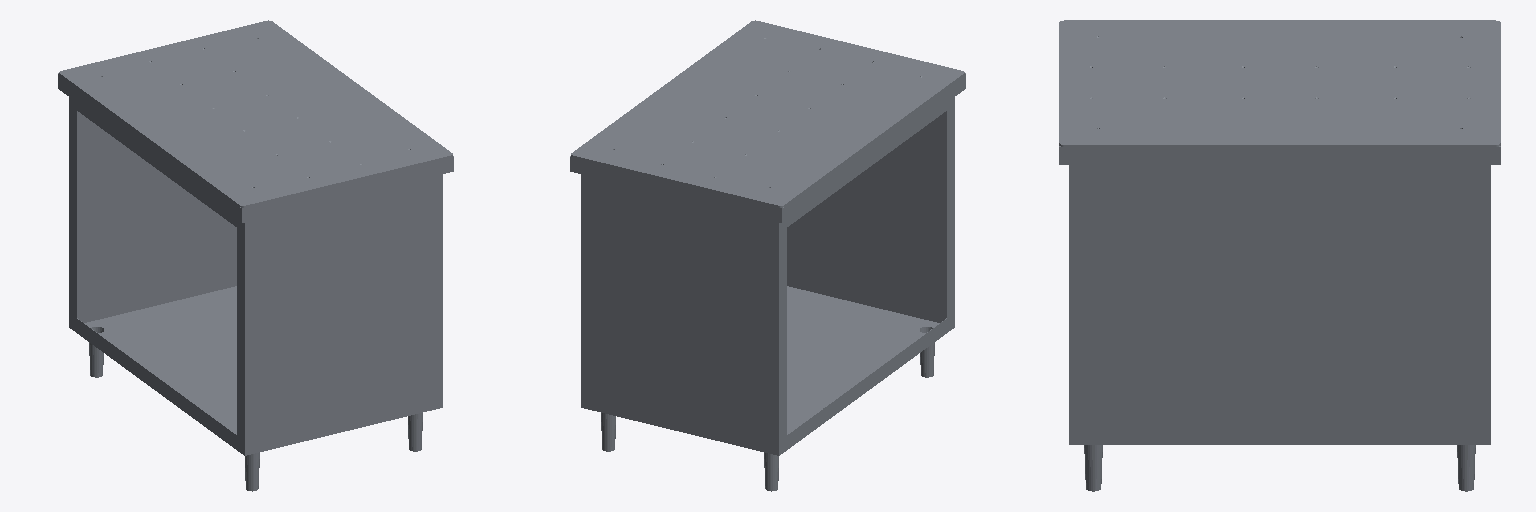
robot.urdf — robot_cabinetnplate:
<?xml version="1.0"?>
<!--
  robot_cabinetnplate.urdf
  바탕화면 Robot_cabinetnplate.step → 변환. 캐비닛(몸체) + 플레이트(상판) 솔리드 2개가 합쳐진 단일 바디.
  - 원본 STEP 단위 mm → 원본 BREP 스케일 변환이 일부 실린더 곡면에서 실패해(Convert_CylinderToBSplineSurface)
    mm 단위로 먼저 테셀레이션 후 정점만 m로 스케일하는 방식으로 우회 변환.
  - 원본 메쉬 좌표계는 로봇 장착면(윗면)이 원점(x:-0.3~0.3, y:-0.45~0.45, z:-0.8~0.005)이었으나,
    a0509_stand.urdf(바닥이 원점)와 배치 관례를 통일하기 위해 visual/collision origin에
    +0.8 오프셋을 줘서 링크 원점 = 바닥(z=0), 상판 = z≈0.805가 되도록 재정렬함(메쉬 파일 자체는 안 건드림).
  - 치수 0.60(x) x 0.90(y) x 0.805(z) m, x/y는 중심 정렬, z는 바닥(0~0.805). (삼각형 27,212면)
  - 로봇은 상판(z≈0.805)에 장착.
  - 시각(visual): 원본 메쉬. 충돌(collision): 박스로 단순화(치수=메쉬 바운딩박스)
  - 정적 구조물이므로 스폰 시 AssetOptions.fix_base_link=True 권장
-->
<robot name="robot_cabinetnplate">

  <material name="cabinet_gray"> <color rgba="0.55 0.57 0.60 1.0"/> </material>

  <link name="base_link">
    <inertial>
      <origin xyz="0 0 0.4025"/>
      <mass value="40.0"/>
      <!-- 박스 관성 (m=40, 0.60x0.90x0.805) -->
      <inertia ixx="4.86" ixy="0" ixz="0" iyy="3.36" iyz="0" izz="3.90"/>
    </inertial>

    <visual>
      <origin xyz="0 0 0.8"/>
      <geometry><mesh filename="meshes/robot_cabinetnplate.stl" scale="1 1 1"/></geometry>
      <material name="cabinet_gray"/>
    </visual>

    <collision>
      <origin xyz="0 0 0.4025"/>
      <geometry><box size="0.60 0.90 0.805"/></geometry>
    </collision>
  </link>
</robot>

--- Facts derived from the render (not from the file) ---
The picture shows the robot from 3 angles, left to right: view 1: azimuth 30°, elevation 25°; view 2: azimuth 150°, elevation 25°; view 3: azimuth 270°, elevation 25°; orthographic projection.
Model robot_cabinetnplate with 1 links and 0 joints (none), rooted at base_link, posed all joints at 0.
Visible links, largest first — view 1: base_link; view 2: base_link; view 3: base_link.
Boxes of the visible links, <box> form: base_link: <box>58,20,453,491</box>; base_link: <box>570,20,965,491</box>; base_link: <box>1059,20,1500,491</box>.
Size in the robot's own frame: 0.6 by 0.9 by 0.805 metres.
Meshes: 1 distinct files referenced, 1 mesh visuals loaded (1 binary STL).
